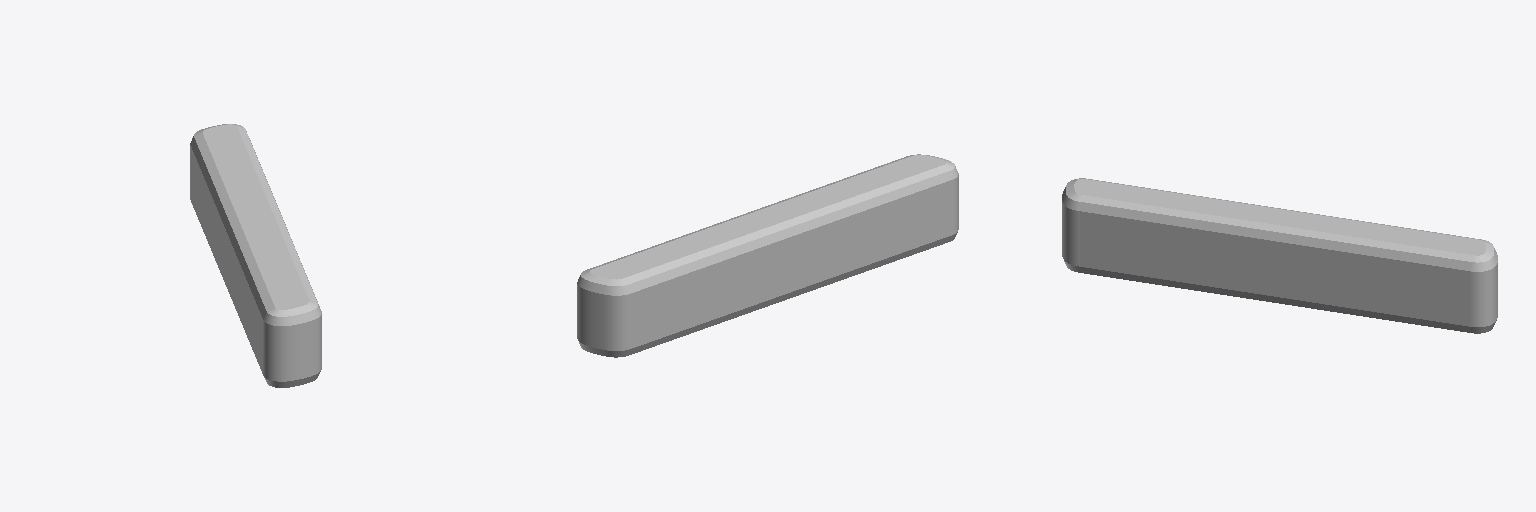
The model's file is slash.obj.
3 renders of one model, left to right at view 1: azimuth 30°, elevation 25°; view 2: azimuth 150°, elevation 25°; view 3: azimuth 270°, elevation 25°, orthographic.
Parts seen in each view (by area): view 1: A_Text; view 2: A_Text; view 3: A_Text.
Part boxes in pixels (left/top/right/bottom): A_Text: left=190, top=124, right=321, bottom=387; A_Text: left=577, top=154, right=958, bottom=357; A_Text: left=1062, top=178, right=1497, bottom=333.
Bounding box in the file's own units: 0.3374 × 0.14 × 0.7127.